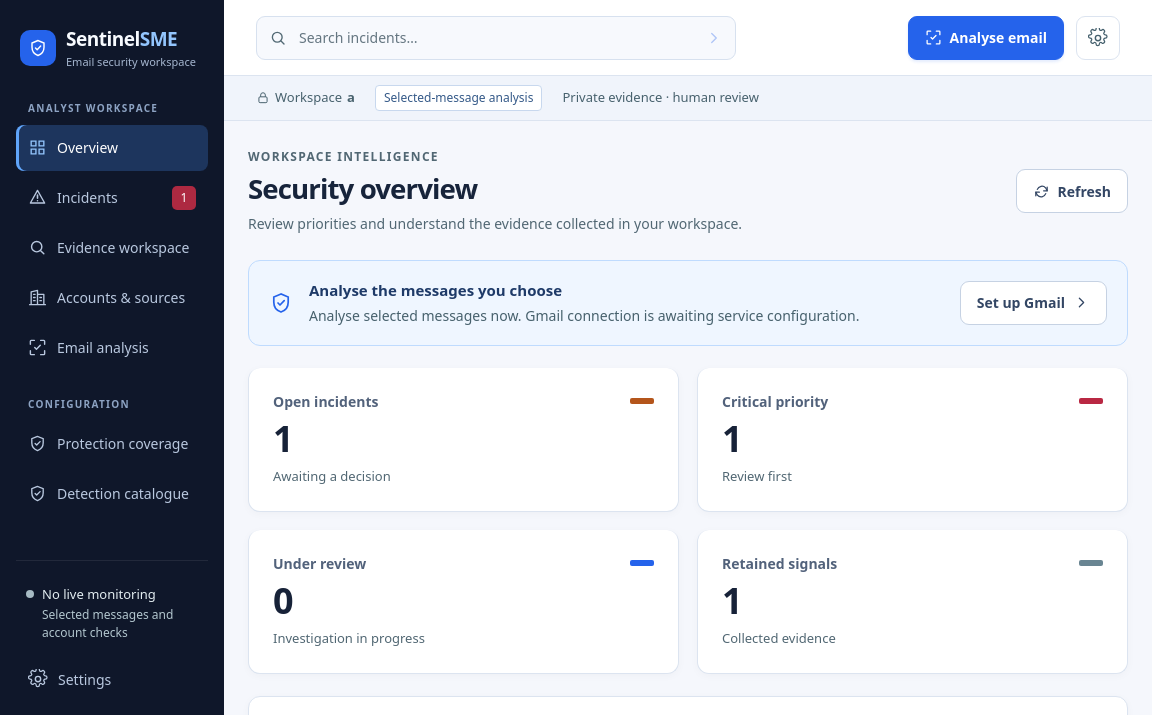
Test: workspace investigation state › submits search deliberately instead of reloading the workspace on each key
In the field labelled "Search incidents": (496, 38) [256, 16, 736, 60], type "  sender  "
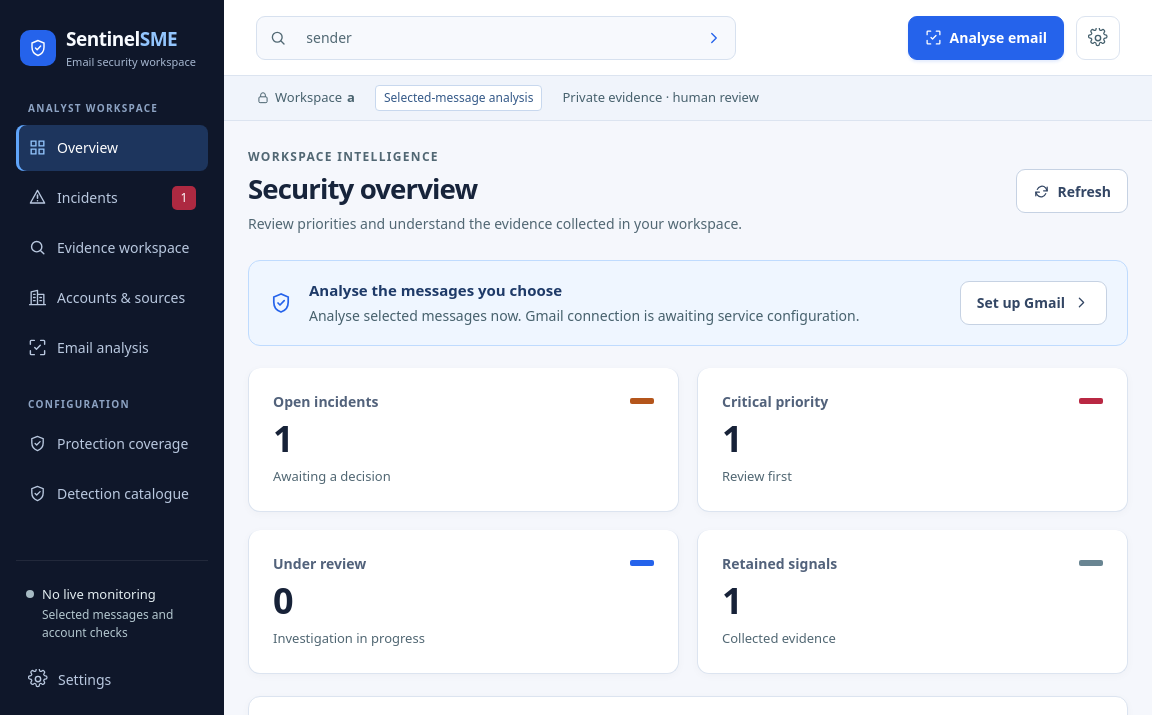
Click the button named "Search workspace": (714, 38) [692, 16, 736, 60]
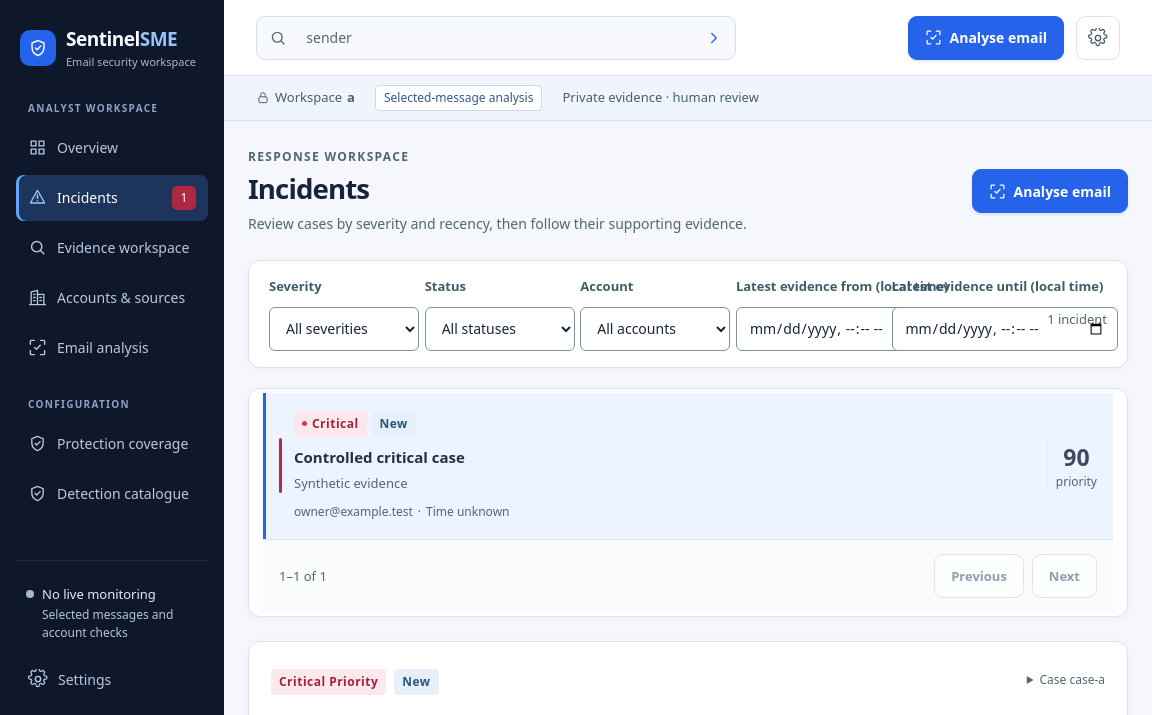
Expected: the heading "Incidents" is shown, [248, 169, 369, 207]
